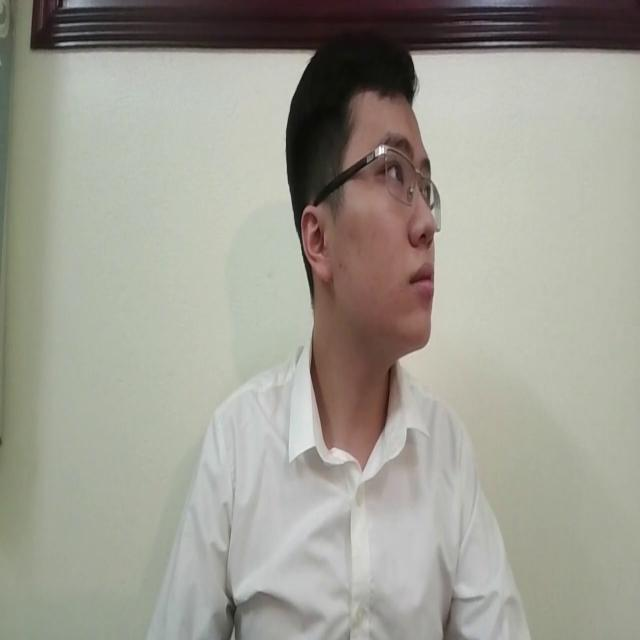student: (142, 19, 524, 640)
